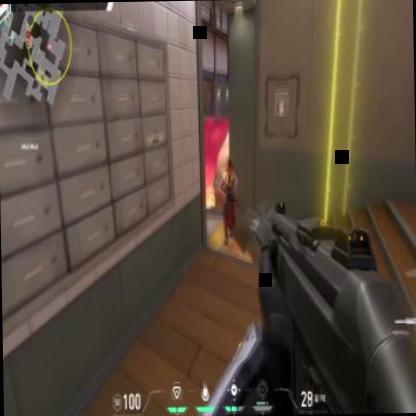enemy: (220, 157, 239, 245)
enemy_head: (226, 159, 232, 172)
